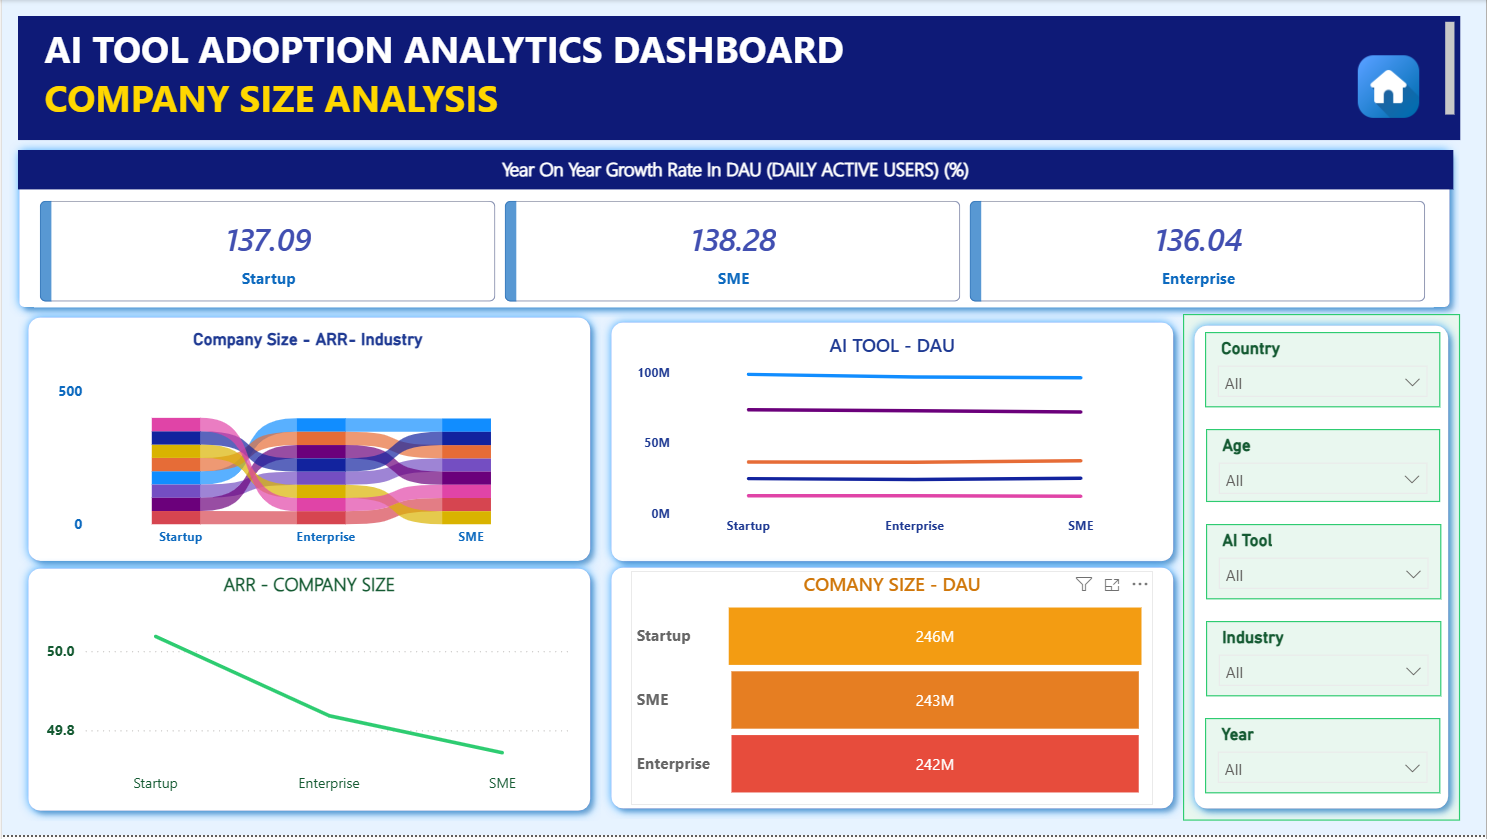

The page's visual inventory and layout, read from the dashboard file:
{"tool":"powerbi","page":{"name":"COMPANY SIZE ANALYSIS","canvas":[1280,720],"ordinal":4},"visuals":[{"type":"textbox","box":[13.7,13.7,1244,107],"z":0},{"type":"shape","box":[6.2,120.7,1251.4,153],"z":1000},{"type":"cardVisual","fields":{"Data":["Company Size Analysis.YoY (Startup) (%)","Company Size Analysis.YOY(SME)(%)","Company Size Analysis.YoY (Enterprise) (%)"]},"box":[27.4,167.9,1206.6,97],"z":2000},{"type":"textbox","box":[13.7,129.4,1238,33.6],"z":3000},{"type":"shape","box":[13.7,265,502.6,228],"z":4000},{"type":"shape","box":[13.7,481.4,502.6,227],"z":5000},{"type":"lineChart","title":"ARR - COMPANY SIZE","fields":{"Category":["AI.company_size"],"Y":["Avg(AI.adoption_rate)"]},"box":[33.6,492.6,462.8,201.5],"z":6000},{"type":"shape","box":[516.2,268.7,502.6,223.9],"z":7000},{"type":"ribbonChart","title":"Company Size - ARR- Industry","fields":{"Category":["AI.company_size"],"Y":["Avg(AI.adoption_rate)"],"Series":["AI.industry"]},"box":[43.5,284.9,441.6,196.5],"z":8000},{"type":"shape","box":[516.2,480.2,502.6,226],"z":9000},{"type":"lineChart","title":"AI TOOL - DAU ","fields":{"Category":["AI.company_size"],"Y":["Company Size Analysis.GPT(DAU)","Company Size Analysis.BARD(DAU)","Company Size Analysis.SD(DAU)","Company Size Analysis.MID JOURNEY(DAU)","Company Size Analysis.CLAUDE(DAU)"]},"box":[542.4,286.1,450.3,185.3],"z":10000},{"type":"shape","box":[1018.8,271.2,238.8,436.6],"z":11000},{"type":"funnel","title":"COMANY SIZE - DAU","fields":{"Category":["AI.company_size"],"Y":["Sum(AI.daily_active_users)"]},"box":[542.4,492.6,450.3,201.5],"z":12000},{"type":"slicer","fields":{"Values":["AI.country"]},"box":[1037.5,286.1,202.8,64.7],"z":13000},{"type":"slicer","fields":{"Values":["AI.age_group"]},"box":[1038.7,369.8,201.5,63.4],"z":14000},{"type":"slicer","fields":{"Values":["AI.ai_tool"]},"box":[1038.7,452.2,202.8,64.7],"z":15000},{"type":"slicer","fields":{"Values":["AI.industry"]},"box":[1038.7,535.8,202.8,64.7],"z":16000},{"type":"slicer","fields":{"Values":["AI.year"]},"box":[1037.5,619.5,202.8,64.7],"z":17000},{"type":"image","box":[1164.3,39.8,63.4,69.7],"z":17001}]}

Visuals, with their boxes in screenshot pixels (x1, y1, x2, y2), scaled from the page's 1280x720 canvas onto the 1487x839 screenshot:
textbox: box(16, 16, 1461, 141)
shape: box(7, 141, 1461, 319)
cardVisual - Company Size Analysis.YoY (Startup) (%) x Company Size Analysis.YOY(SME)(%): box(32, 196, 1434, 309)
textbox: box(16, 151, 1454, 190)
shape: box(16, 309, 600, 574)
shape: box(16, 561, 600, 825)
"ARR - COMPANY SIZE" lineChart: box(39, 574, 577, 809)
shape: box(600, 313, 1184, 574)
"Company Size - ARR- Industry" ribbonChart: box(51, 332, 564, 561)
shape: box(600, 560, 1184, 823)
"AI TOOL - DAU " lineChart: box(630, 333, 1153, 549)
shape: box(1184, 316, 1461, 825)
"COMANY SIZE - DAU" funnel: box(630, 574, 1153, 809)
slicer - AI.country: box(1205, 333, 1441, 409)
slicer - AI.age_group: box(1207, 431, 1441, 505)
slicer - AI.ai_tool: box(1207, 527, 1442, 602)
slicer - AI.industry: box(1207, 624, 1442, 700)
slicer - AI.year: box(1205, 722, 1441, 797)
image: box(1353, 46, 1426, 128)
